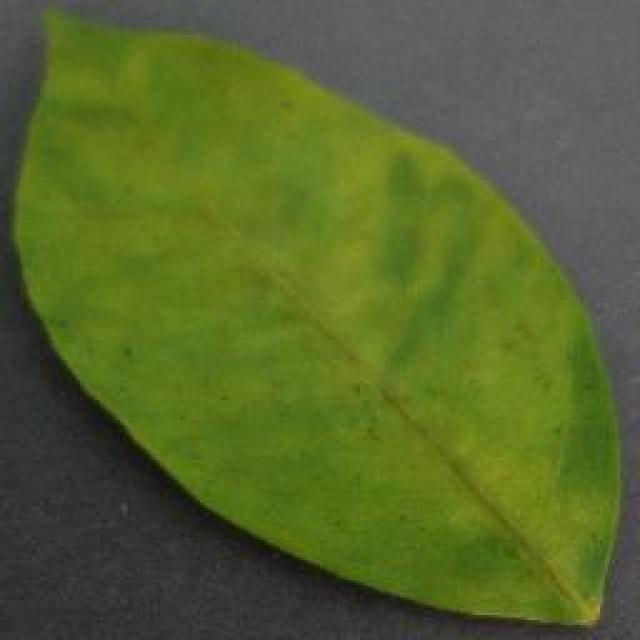Orange_Haunglongbing_Citrus_greening: (30, 102, 505, 542)
